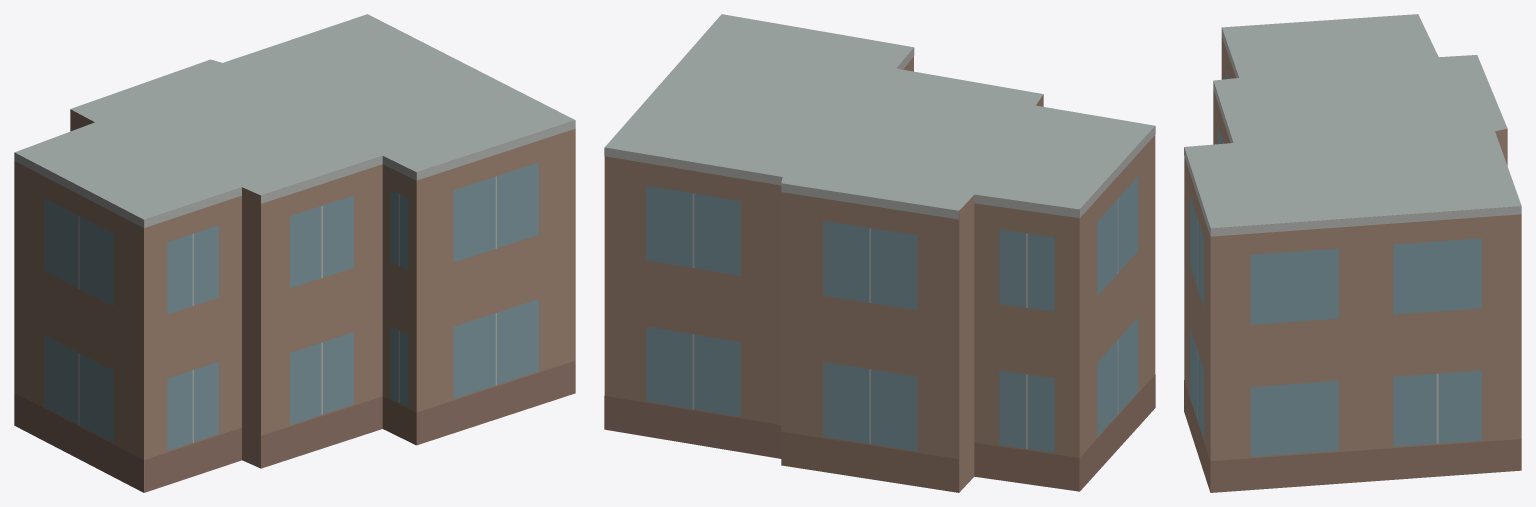
The model's file is survey-upis-32963110.glb.
The picture shows the model from 3 angles, left to right: view 1: azimuth 30°, elevation 25°; view 2: azimuth 150°, elevation 25°; view 3: azimuth 270°, elevation 25°; orthographic projection. The views are drawn at different scales.
Parts seen in each view (by area): view 1: survey-upis-32963110.tmp; view 2: survey-upis-32963110.tmp; view 3: survey-upis-32963110.tmp.
Boxes of the visible parts, x1=… form: survey-upis-32963110.tmp: x1=14, y1=14, x2=575, y2=492; survey-upis-32963110.tmp: x1=604, y1=14, x2=1155, y2=492; survey-upis-32963110.tmp: x1=1184, y1=14, x2=1521, y2=492.
Bounding box in the file's own units: 13.66 × 7.85 × 9.09.
